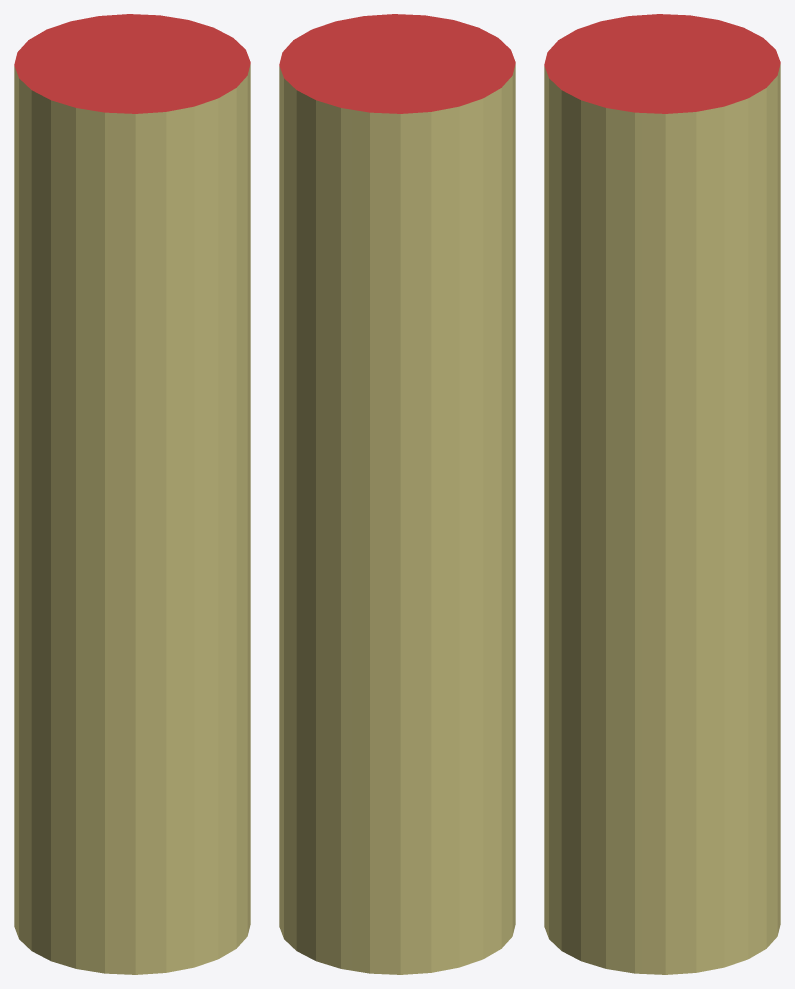
3 renders of one model, left to right at view 1: azimuth 30°, elevation 25°; view 2: azimuth 150°, elevation 25°; view 3: azimuth 270°, elevation 25°, orthographic.
Size of the model in its own units: 4.79 by 4.79 by 19.25.
